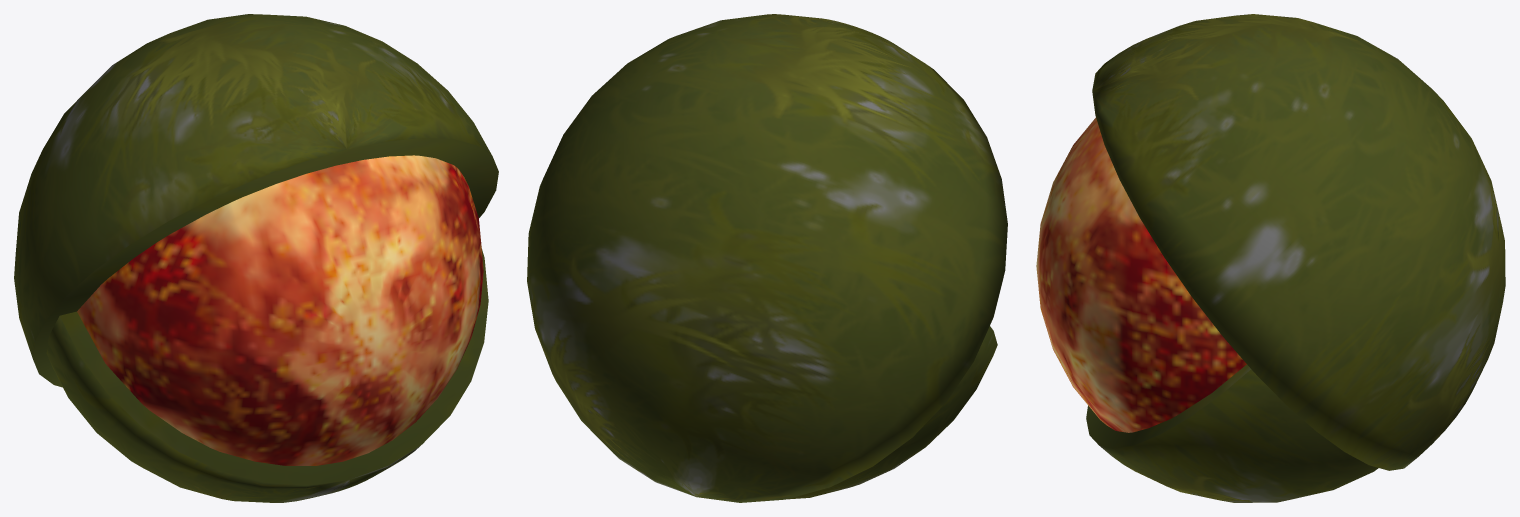
File: Eye solo.fbx
3 renders of one model, left to right at view 1: azimuth 30°, elevation 25°; view 2: azimuth 150°, elevation 25°; view 3: azimuth 270°, elevation 25°, orthographic.
Visible parts, largest first — view 1: Eye solo, EyeLidSoloU, EyeLidSoloB; view 2: EyeLidSoloU, EyeLidSoloB; view 3: EyeLidSoloU, Eye solo, EyeLidSoloB.
Boxes of the visible parts, x1,y1,x2,y2 form: Eye solo: (77, 155, 483, 465); EyeLidSoloU: (14, 14, 498, 387); EyeLidSoloB: (46, 248, 488, 502); EyeLidSoloU: (527, 14, 1007, 502); EyeLidSoloB: (787, 326, 997, 499); EyeLidSoloU: (1092, 14, 1505, 470); Eye solo: (1036, 117, 1246, 432); EyeLidSoloB: (1086, 364, 1378, 502).
Size of the model in its own units: 0.0289 by 0.028 by 0.0269.
